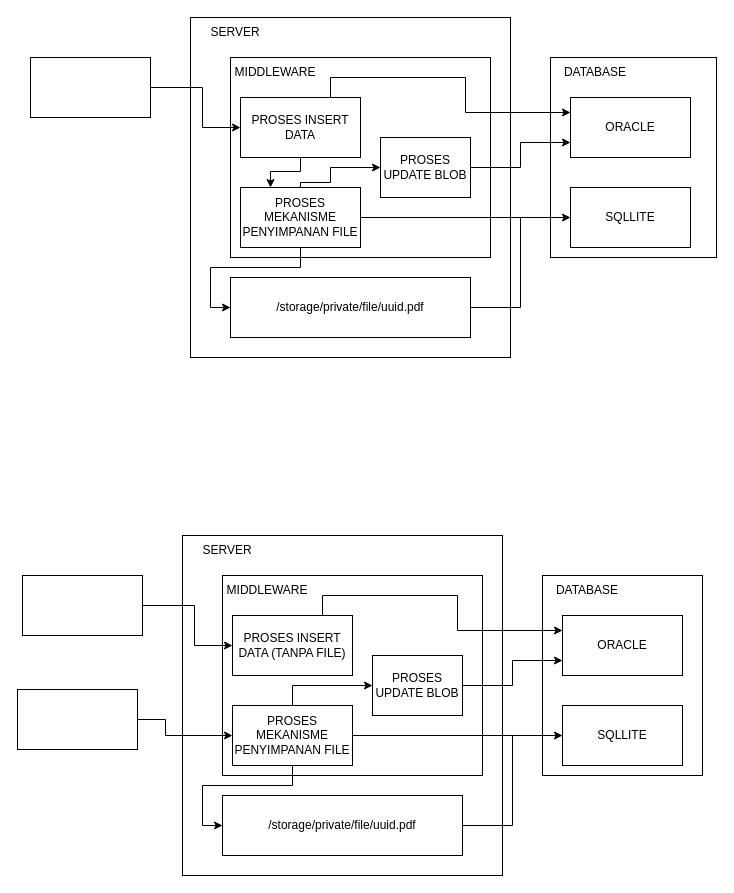
Image size: 734x893. Some labels were removed from this diagram. The centre of each missing label's shape, as x and y in pixels:
"ATTACHMENT" goes at [77,719].
"HEADER LINE" goes at [82,605].
"HEADER LINE ATTACHMENT" goes at [90,87].
